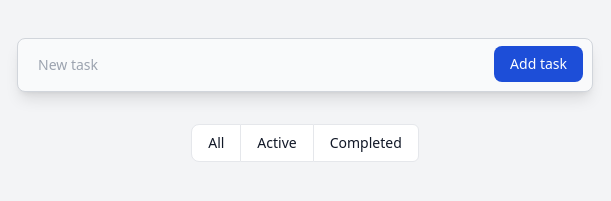
Scenario: should create a task
The image size is (611, 201).
In the field with test id "addTaskInput": (305, 65) [17,38,593,92], type "New Task"
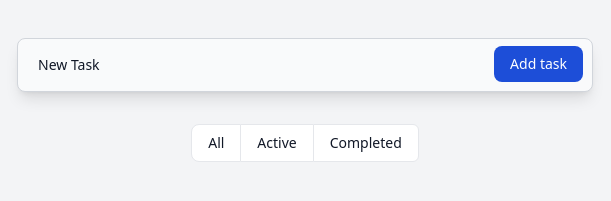
Click the button with test id "addTaskSubmit": (539, 64) [494,46,583,82]
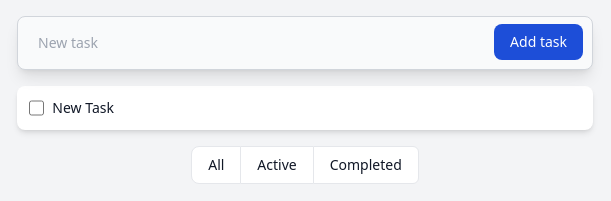
Now the text "New Task" is shown, box [52,98,114,117]
